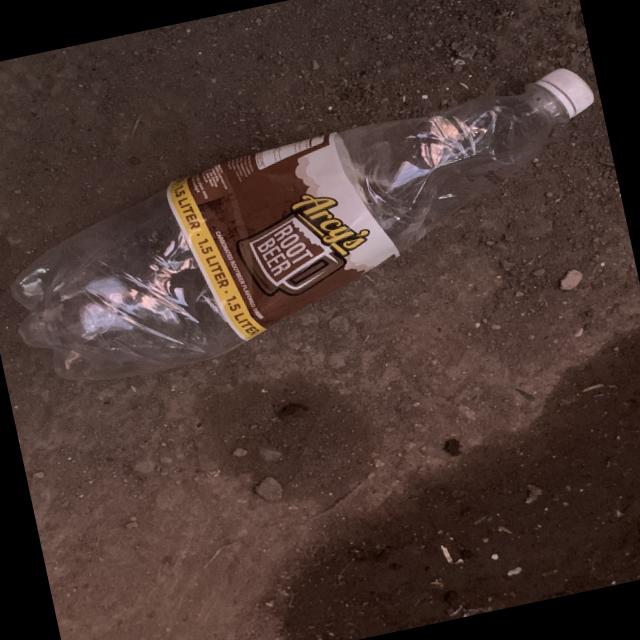Bottle: (12, 68, 593, 379)
